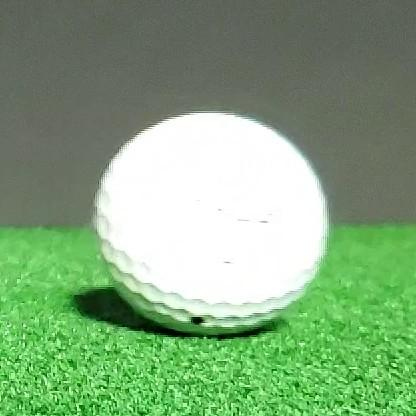golfball: (93, 112, 328, 334)
